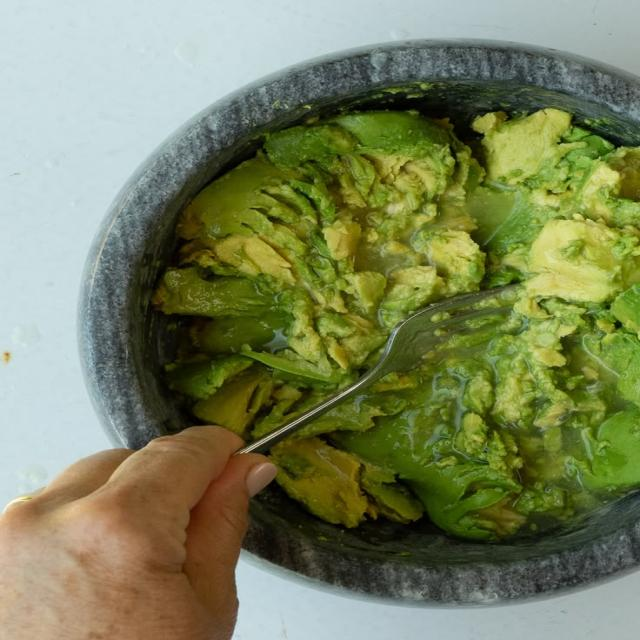avocado: (154, 108, 639, 541)
